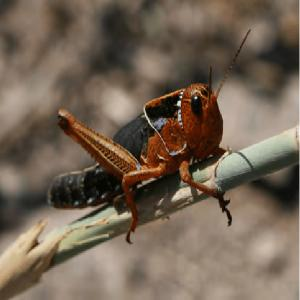locust: (37, 54, 249, 255)
